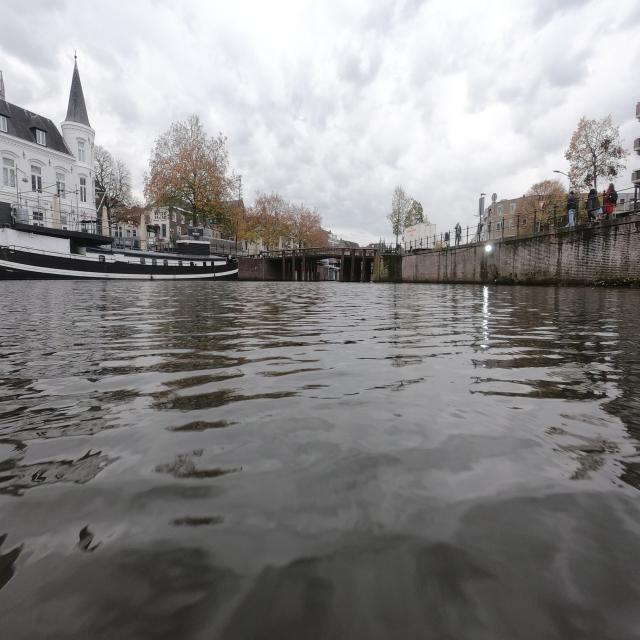boat: (0, 246, 228, 278)
sky: (6, 8, 638, 244)
tree: (144, 114, 231, 222), (246, 194, 332, 256), (387, 186, 410, 242)
wall: (374, 208, 638, 286), (238, 256, 281, 281)
water: (0, 281, 640, 640)
